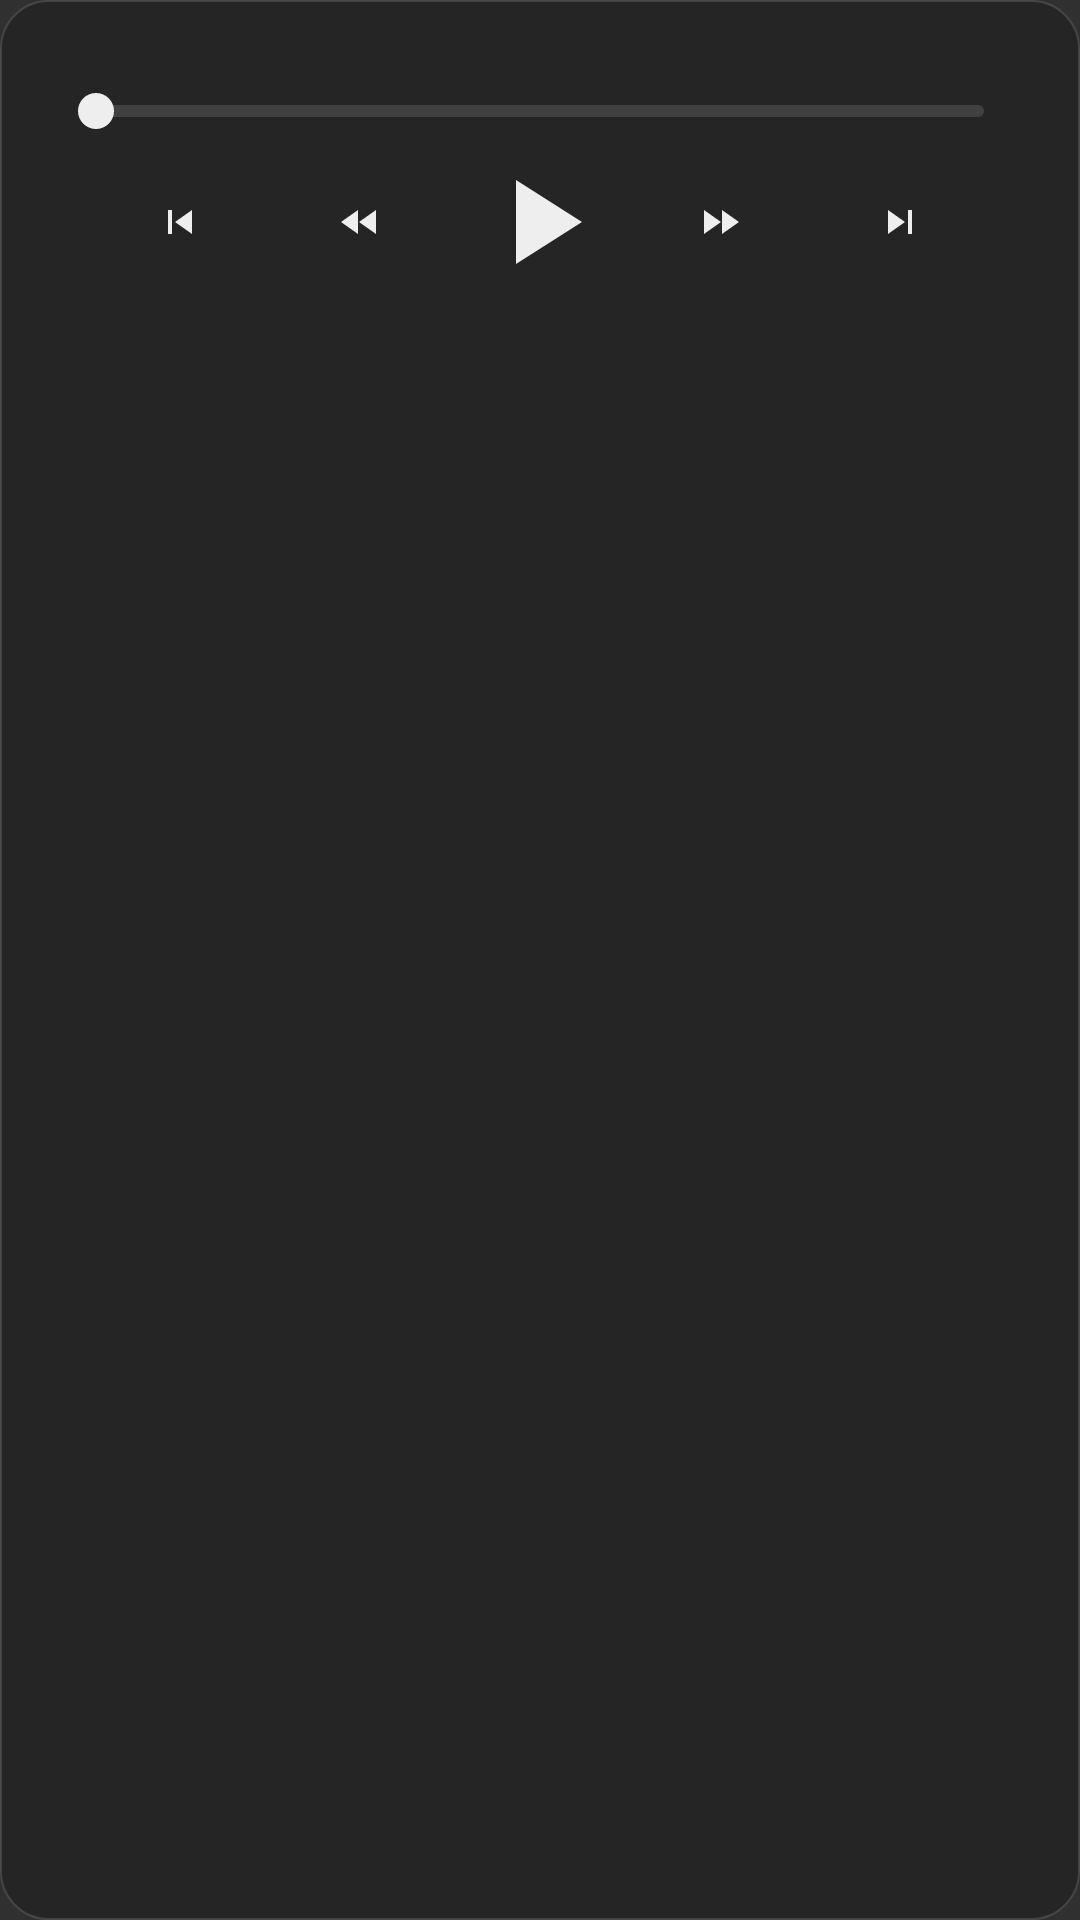

Icon click points for this 1080x1920 phone screenshot, format [x,y]:
Forward: [721,222]
Next: [900,222]
Play/Pause: [549,222]
Prev: [180,222]
Rewind: [358,222]
